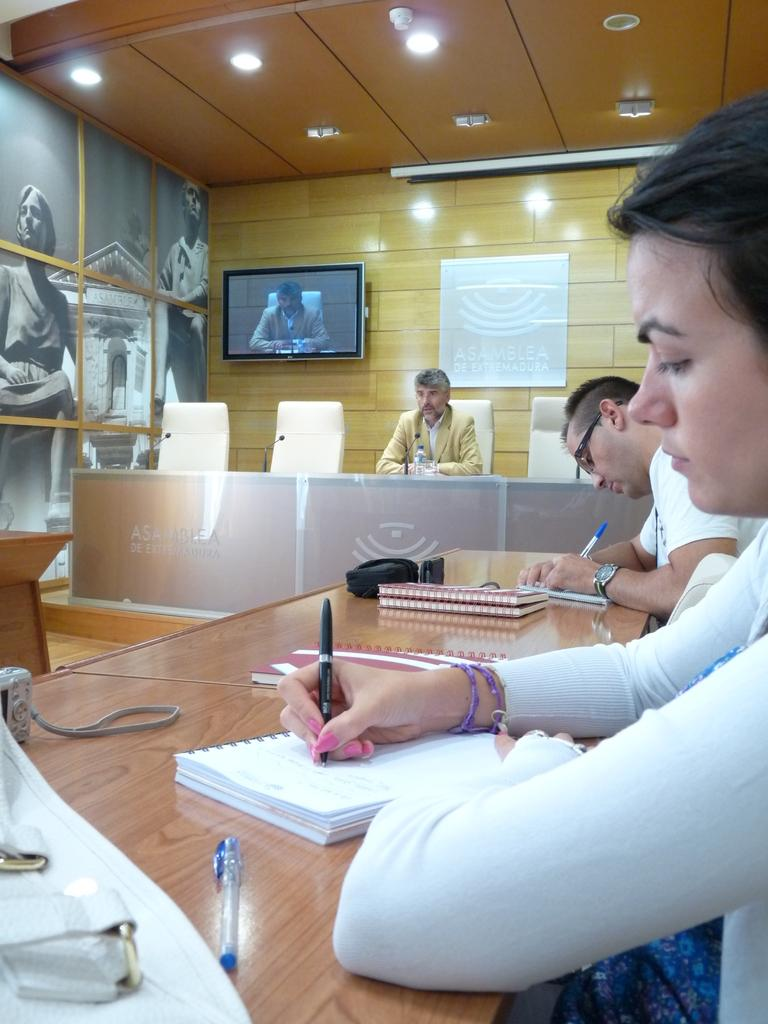pen: (210, 840, 242, 973), (317, 595, 334, 769), (581, 525, 605, 559)
